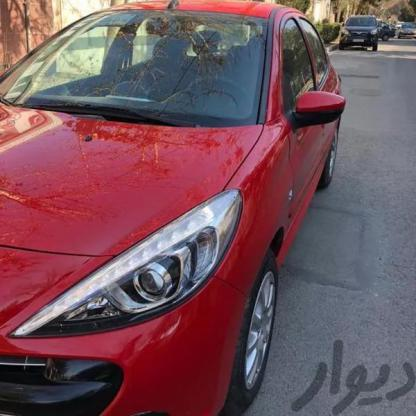Car: (0, 0, 346, 416), (333, 13, 392, 56), (395, 17, 415, 50)
